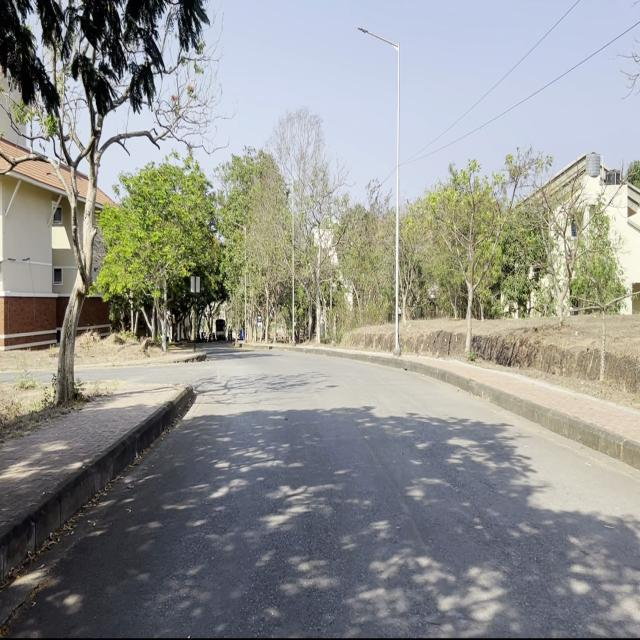Road: (5, 345, 638, 633)
